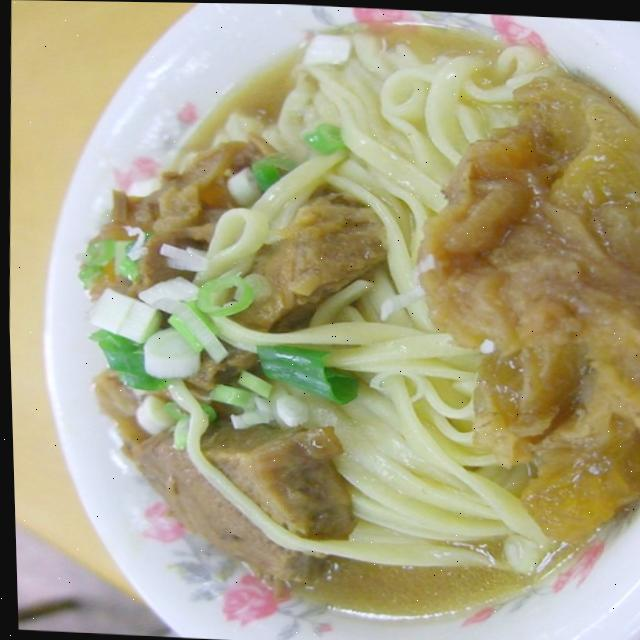面条主食: (72, 2, 640, 627)
